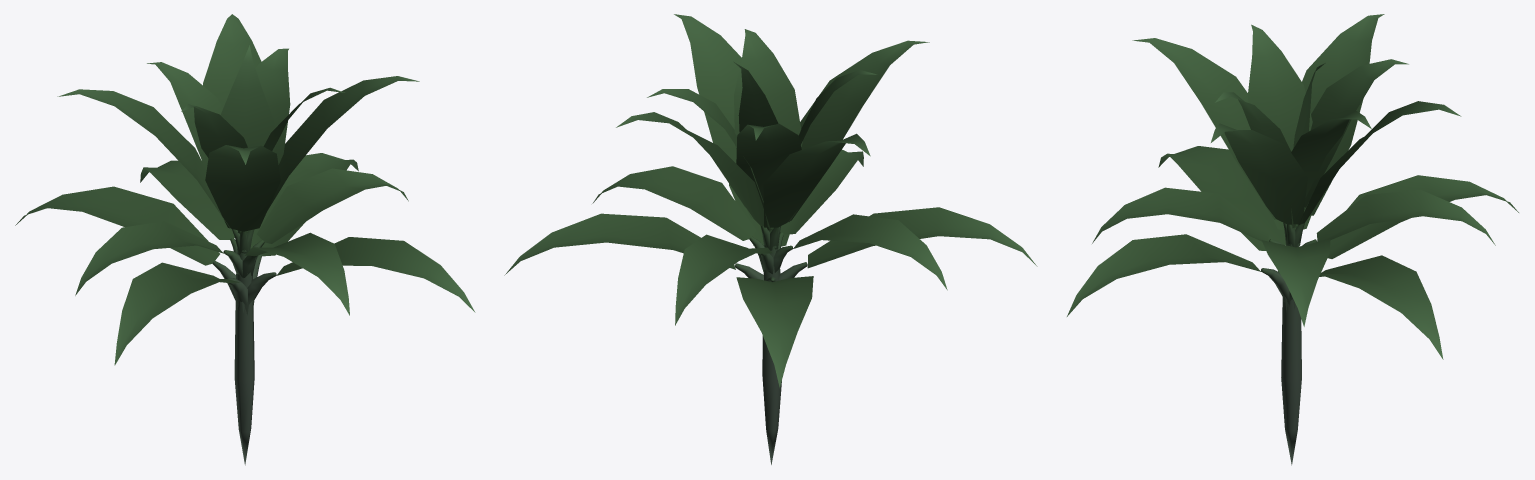
3 renders of one model, left to right at view 1: azimuth 30°, elevation 25°; view 2: azimuth 150°, elevation 25°; view 3: azimuth 270°, elevation 25°, orthographic. The views are drawn at different scales.
Parts seen in each view (by area): view 1: alt2.293; view 2: alt2.293; view 3: alt2.293.
Part boxes in pixels (box(x1,y1,x2,y2)): alt2.293: box(15, 14, 475, 465); alt2.293: box(504, 14, 1037, 464); alt2.293: box(1067, 14, 1518, 465).
Bounding box in the file's own units: 0.4968 × 0.5 × 0.4967.
